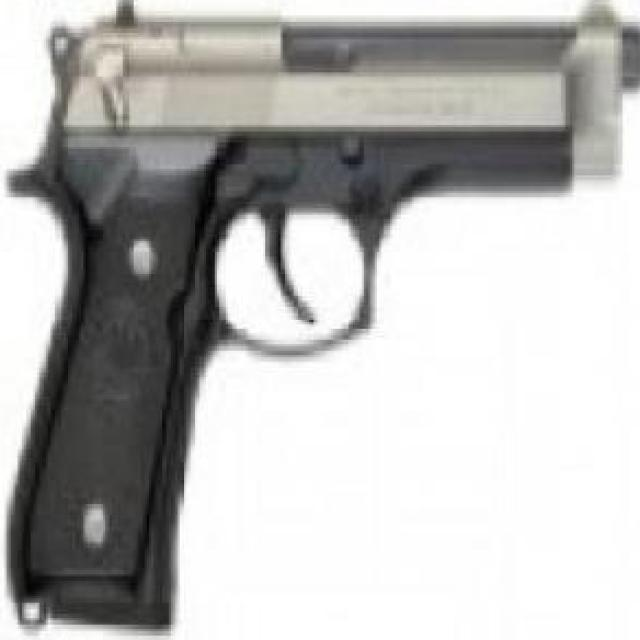pistol: (2, 0, 631, 625)
